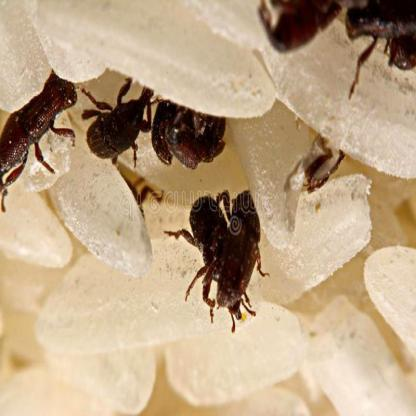rice-bug: (179, 190, 262, 327), (1, 70, 76, 202), (152, 100, 232, 170), (347, 0, 416, 78), (88, 77, 150, 161), (262, 2, 342, 53), (294, 136, 346, 200)
